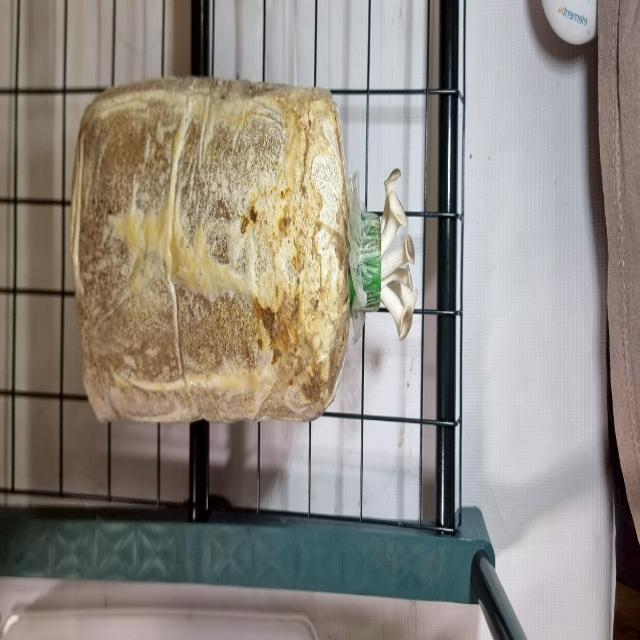normal: (358, 142, 422, 353)
